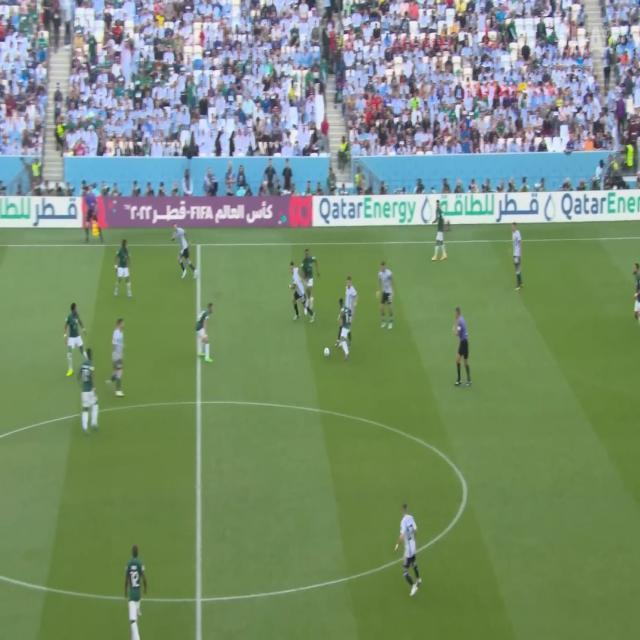football: (321, 346, 333, 359)
